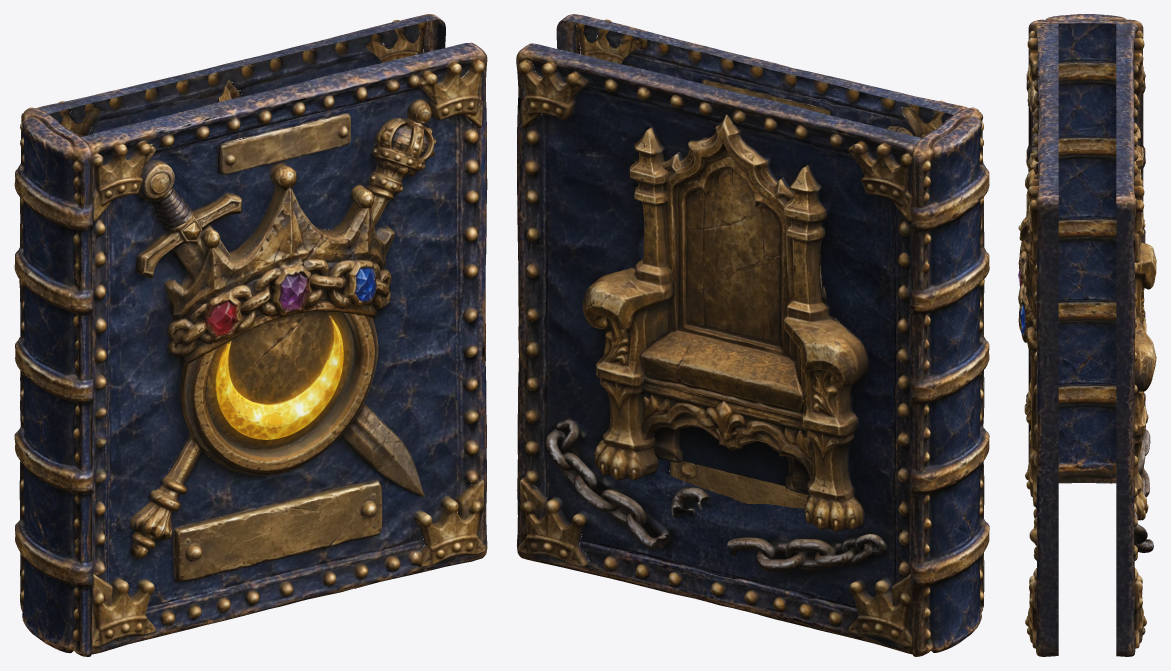
File: kings.glb
3 renders of one model, left to right at view 1: azimuth 30°, elevation 25°; view 2: azimuth 150°, elevation 25°; view 3: azimuth 270°, elevation 25°, orthographic. The views are drawn at different scales.
Parts seen in each view (by area): view 1: F_p0, S_p1, F_crown, B_p0, F_plateB, F_disc, F_ring_lo, F_moon, F_sword_a, F_scep_a, F_plateT, FK_p14 (+10 smaller); view 2: B_p0, S_p1, B_p3, B_p18, F_p0, B_p8, B_p17, B_p16, BC_p6, BK_p20, BC_p9, B_p15 (+8 smaller); view 3: S_p1, F_p0, B_p0, B_p8, F_crown, B_p3, FK_p11, BK_p23, BK_p20, FK_p14, BK_p22, BC_p6 (+7 smaller).
Part boxes in pixels (x1,y1,x2,y2): F_p0: (81,42,487,654); S_p1: (14,107,93,656); F_crown: (164,164,394,363); B_p0: (36,14,445,596); F_plateB: (174,480,382,581); F_disc: (206,311,354,451); F_ring_lo: (180,349,378,475); F_moon: (215,315,343,439); F_sword_a: (135,159,241,280); F_scep_a: (366,99,436,227); F_plateT: (218,113,350,174); FK_p14: (412,478,485,567); B_p0: (516,43,921,654); S_p1: (910,107,989,656); B_p3: (641,114,868,532); B_p18: (677,156,789,356); F_p0: (556,14,968,596); B_p8: (582,268,673,480); B_p17: (641,328,803,411); B_p16: (783,165,828,321); BC_p6: (727,534,887,571); BK_p20: (518,477,589,567); BC_p9: (545,426,670,550); B_p15: (629,126,667,267); S_p1: (1026,14,1145,483); F_p0: (1031,23,1058,656); B_p0: (1116,24,1139,656); B_p8: (1134,318,1156,520); F_crown: (1018,169,1036,365); B_p3: (1134,131,1156,423); FK_p11: (1026,176,1038,262); BK_p23: (1134,179,1145,262); BK_p20: (1134,575,1146,648); FK_p14: (1025,575,1036,648); BK_p22: (1133,30,1145,93); BC_p6: (1138,429,1150,497).
Bounding box in the file's own units: 0.8622 × 0.9782 × 0.2653.
Materials: 2 (2 with a texture image).
